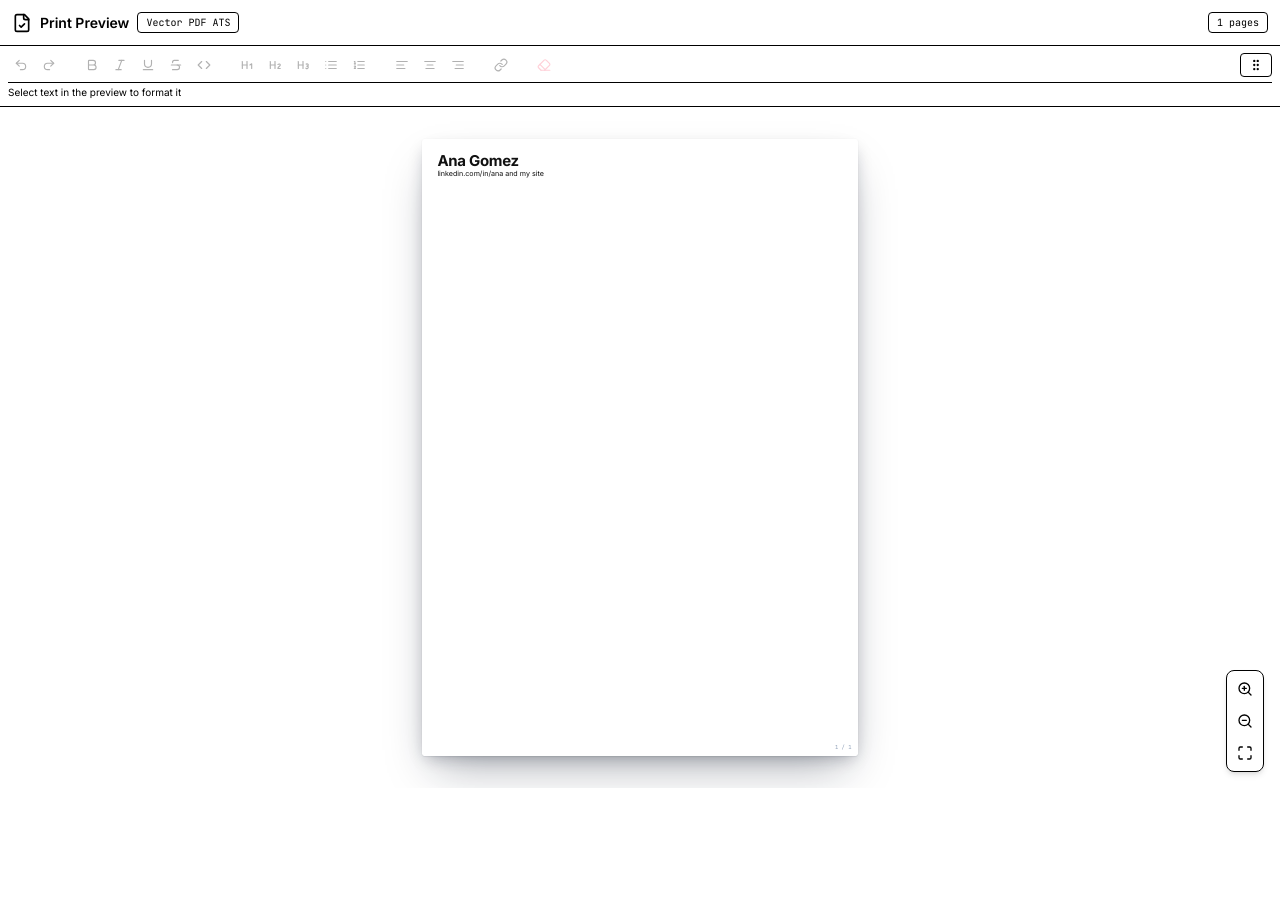
Test case: CVPreview drag of the page › offers the hand only once there is a page to move by dragging
Click the button named "zoom in".
click(1245, 689)  # box top-left (1231, 675), bottom-right (1259, 703)
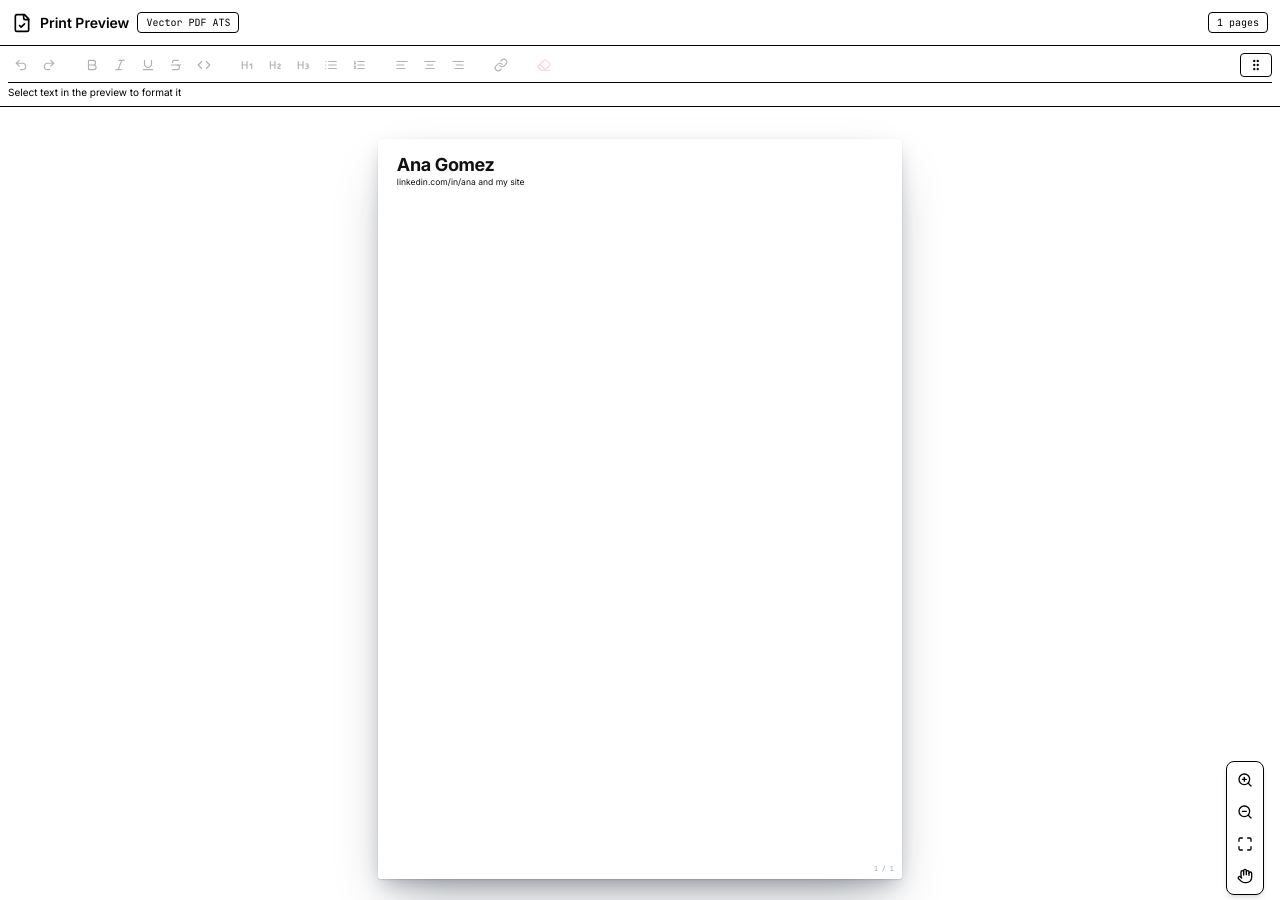
Expected: the button named "select text" is shown, top-left (1231, 862), bottom-right (1259, 890)
